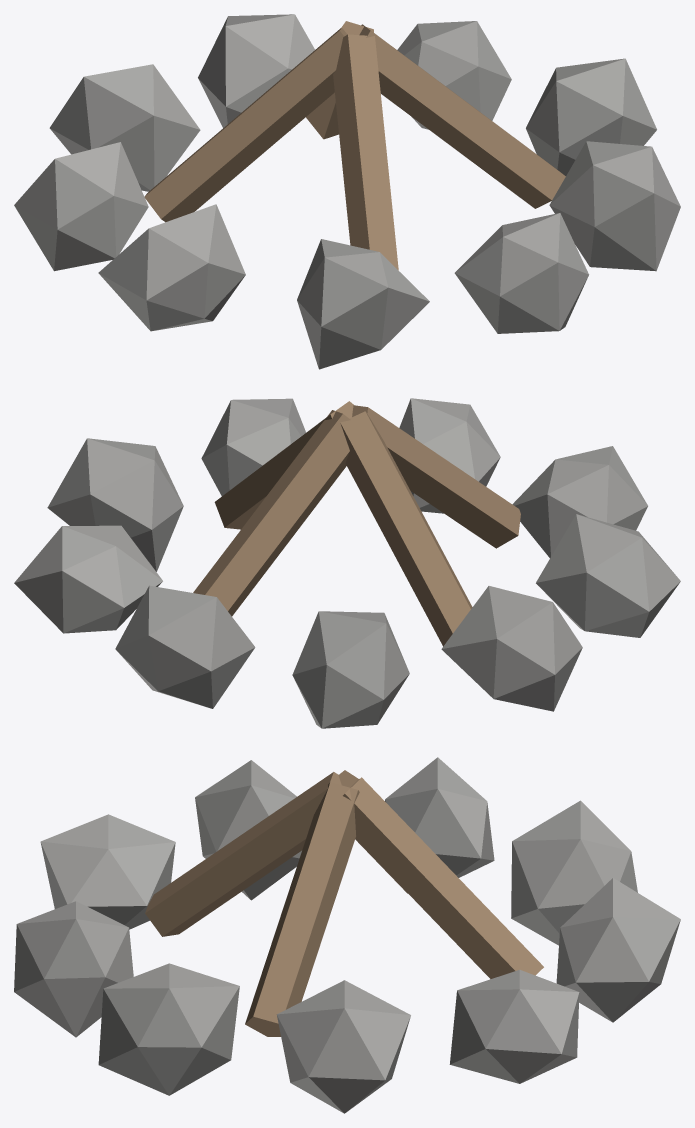
Rendered from deploy_campfire.glb.
The picture shows the model from 3 angles, top to bottom: view 1: azimuth 30°, elevation 25°; view 2: azimuth 150°, elevation 25°; view 3: azimuth 270°, elevation 25°; orthographic projection. The views are drawn at different scales.
Parts seen in each view (by area): view 1: deploy_campfire; view 2: deploy_campfire; view 3: deploy_campfire.
Part boxes in pixels (bbox=[...]): deploy_campfire: bbox=[14, 14, 680, 369]; deploy_campfire: bbox=[14, 398, 680, 728]; deploy_campfire: bbox=[14, 757, 680, 1113].
Bounding box in the file's own units: 1.34 × 0.4954 × 1.35.
